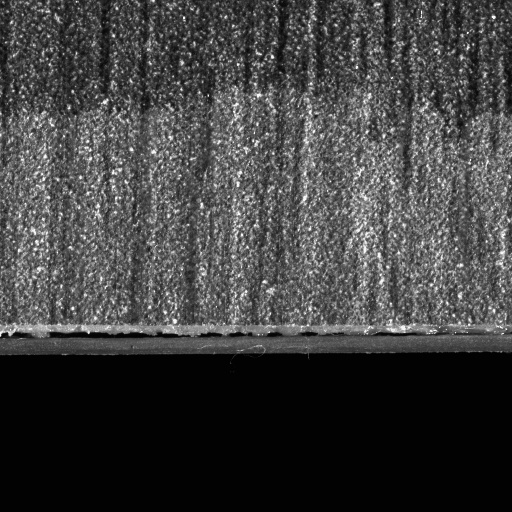kaijiao: (0, 319, 492, 360)
